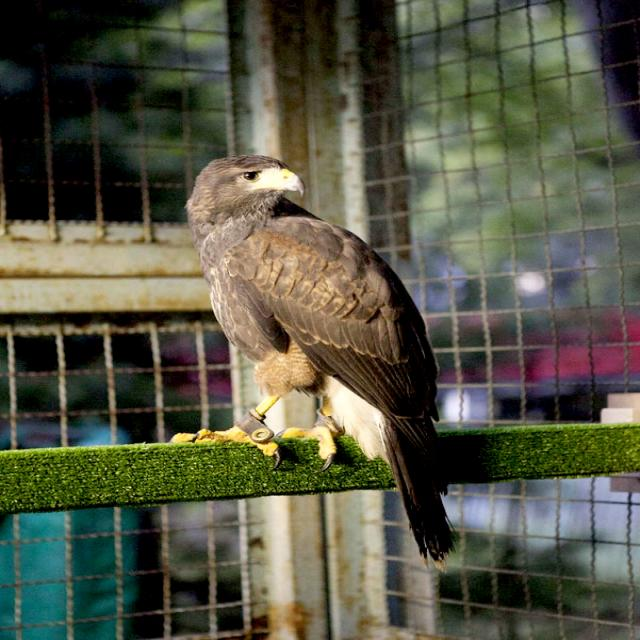bird: (174, 153, 463, 555)
